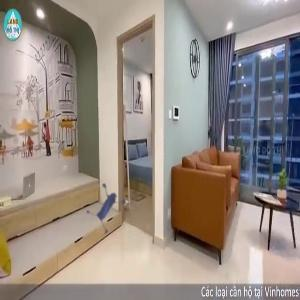drone: (76, 177, 143, 244)
